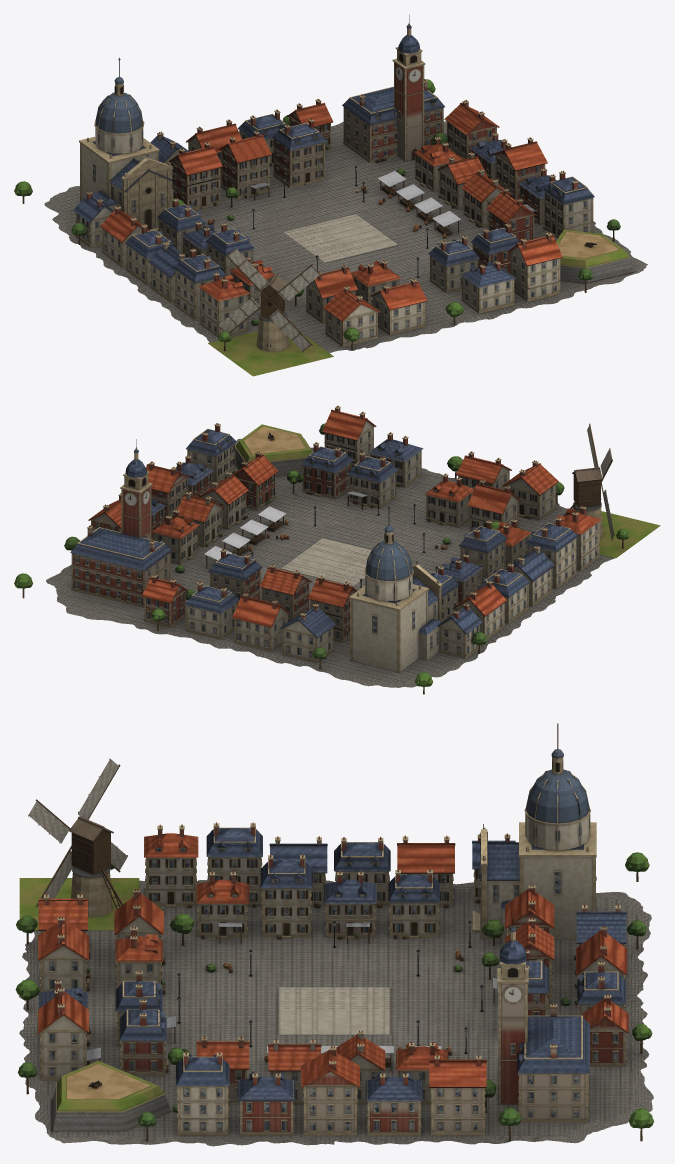
File: gunpowder-town-big-a-f0ddf4fd.glb
The picture shows the model from 3 angles, top to bottom: view 1: azimuth 30°, elevation 25°; view 2: azimuth 150°, elevation 25°; view 3: azimuth 270°, elevation 25°; orthographic projection. The views are drawn at different scales.
Parts seen in each view (by area): view 1: LOD0; view 2: LOD0; view 3: LOD0.
Part boxes in pixels (x1,y1,x2,y2): LOD0: [14, 14, 647, 376]; LOD0: [14, 405, 660, 694]; LOD0: [15, 723, 654, 1146].
Size of what is drawn, in the model's own units: 8.05 by 2.8 by 8.12.
3 materials, 3 textured.
